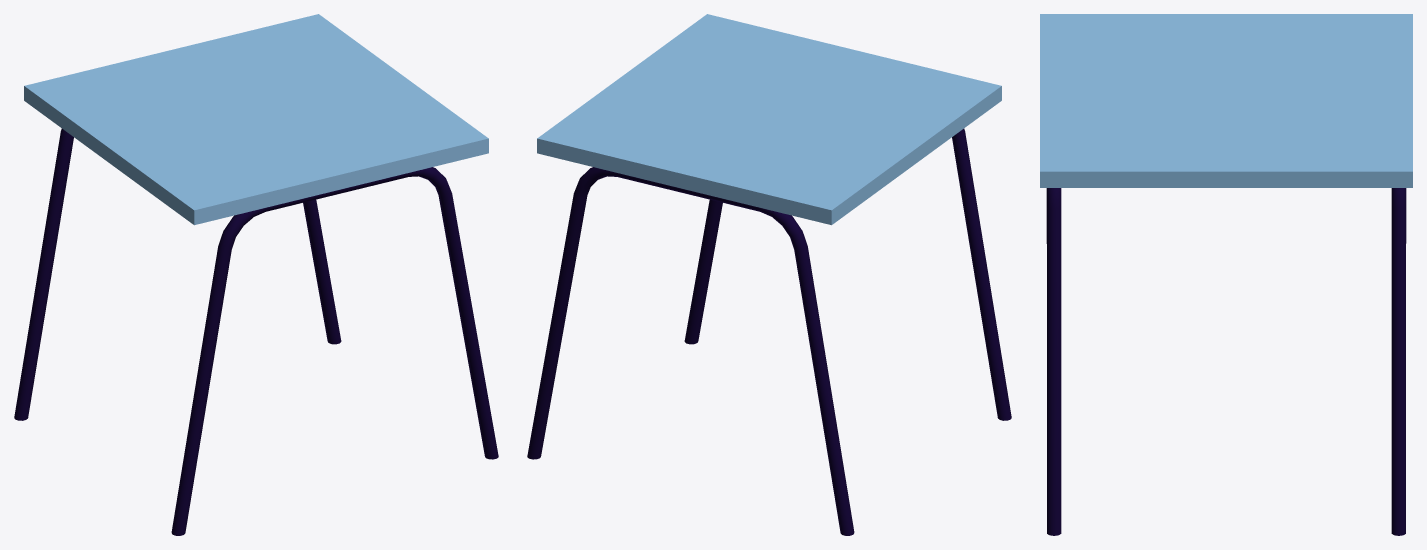
File: Desk.fbx
The picture shows the model from 3 angles, left to right: view 1: azimuth 30°, elevation 25°; view 2: azimuth 150°, elevation 25°; view 3: azimuth 270°, elevation 25°; orthographic projection. The views are drawn at different scales.
Parts seen in each view (by area): view 1: Desk; view 2: Desk; view 3: Desk.
Part boxes in pixels (<box>): Desk: <box>14,14,498,535</box>; Desk: <box>527,14,1011,535</box>; Desk: <box>1040,14,1412,535</box>.
Bounding box in the file's own units: 64.18 × 61.26 × 58.09.
